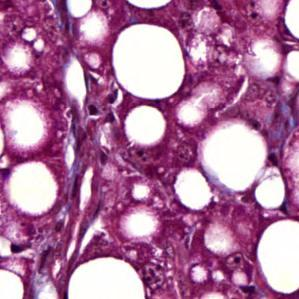steatosis: (109, 26, 188, 99), (7, 165, 61, 214), (127, 110, 168, 148)
